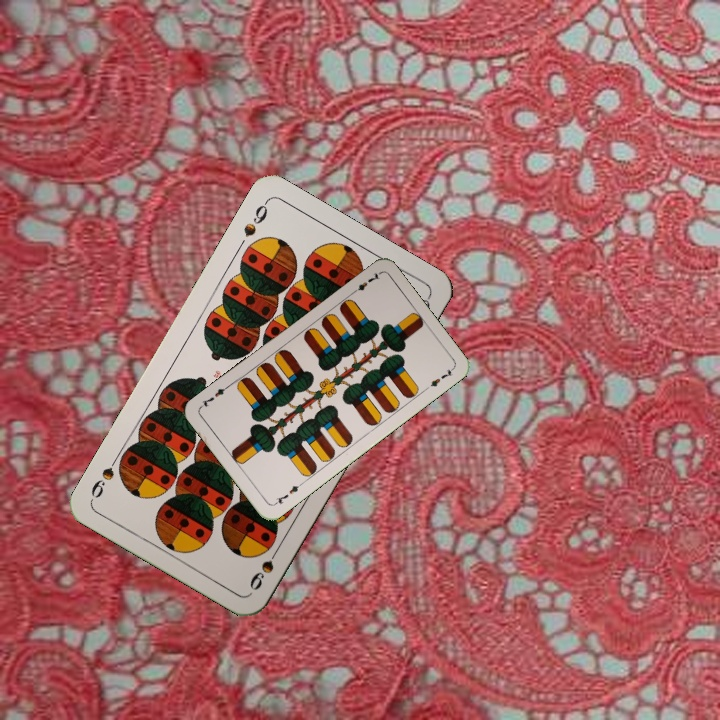E7: (347, 269, 383, 298), (270, 479, 305, 508)
S9: (245, 540, 284, 593), (239, 197, 271, 239)
